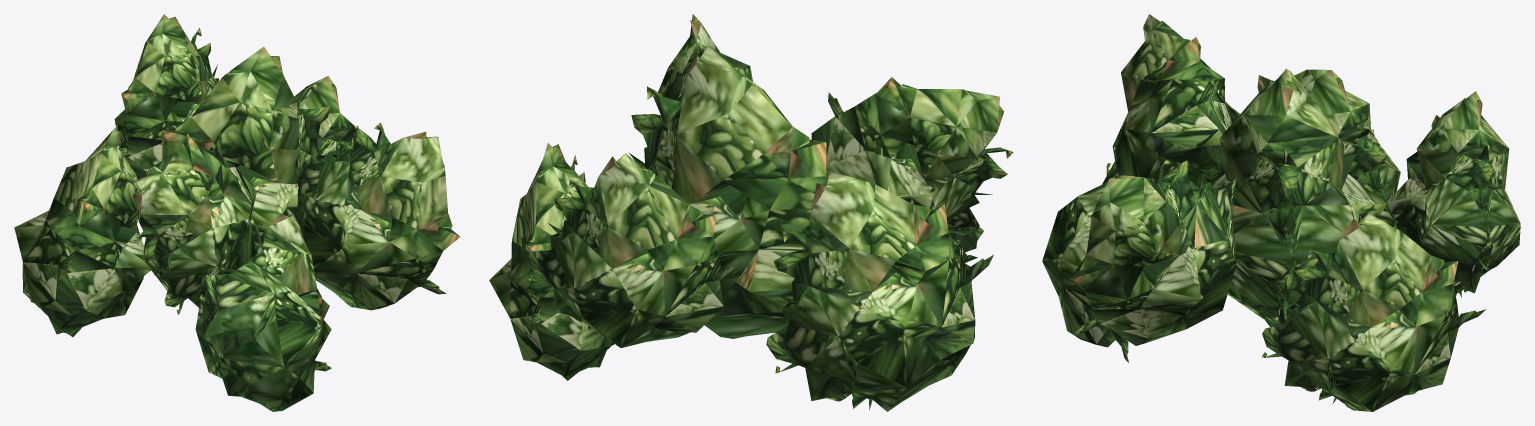
The model's file is mossy_mound_bud.glb.
The picture shows the model from 3 angles, left to right: view 1: azimuth 30°, elevation 25°; view 2: azimuth 150°, elevation 25°; view 3: azimuth 270°, elevation 25°; orthographic projection. The views are drawn at different scales.
Parts seen in each view (by area): view 1: Mesh; view 2: Mesh; view 3: Mesh.
Part boxes in pixels (x1=…): Mesh: x1=14, y1=14, x2=460, y2=411; Mesh: x1=489, y1=14, x2=1013, y2=411; Mesh: x1=1042, y1=14, x2=1520, y2=411.
Size of the model in its own units: 1.21 by 0.8725 by 1.22.
Materials: 1 (1 with a texture image).
